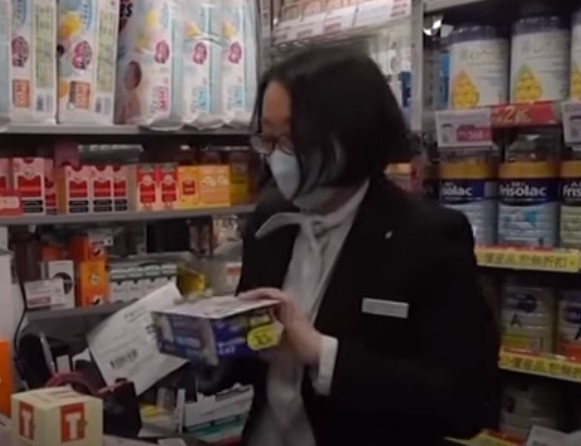face_with_mask: (250, 49, 383, 213)
